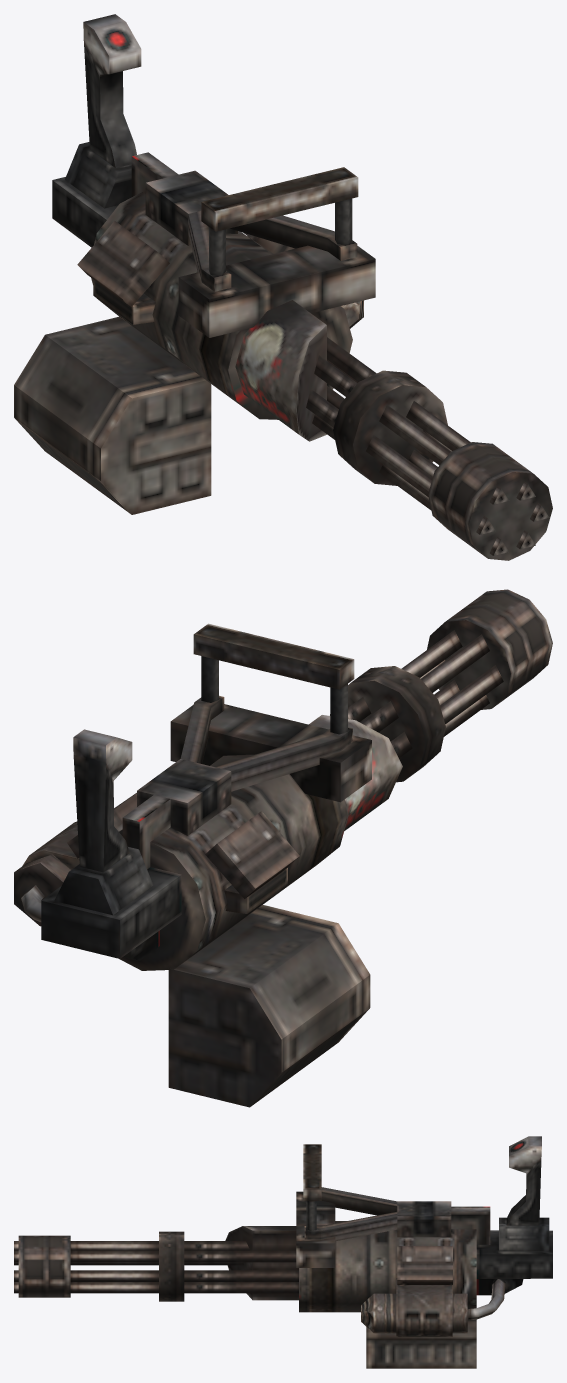
3 renders of one model, top to bottom at view 1: azimuth 30°, elevation 25°; view 2: azimuth 150°, elevation 25°; view 3: azimuth 270°, elevation 25°, orthographic. The views are drawn at different scales.
Parts seen in each view (by area): view 1: Usurper_FM.049; view 2: Usurper_FM.049; view 3: Usurper_FM.049.
Part boxes in pixels (bbox=[...]): Usurper_FM.049: bbox=[14, 14, 552, 560]; Usurper_FM.049: bbox=[14, 589, 552, 1107]; Usurper_FM.049: bbox=[14, 1136, 552, 1368].
Size of the model in its own units: 31.05 by 40 by 83.07.
